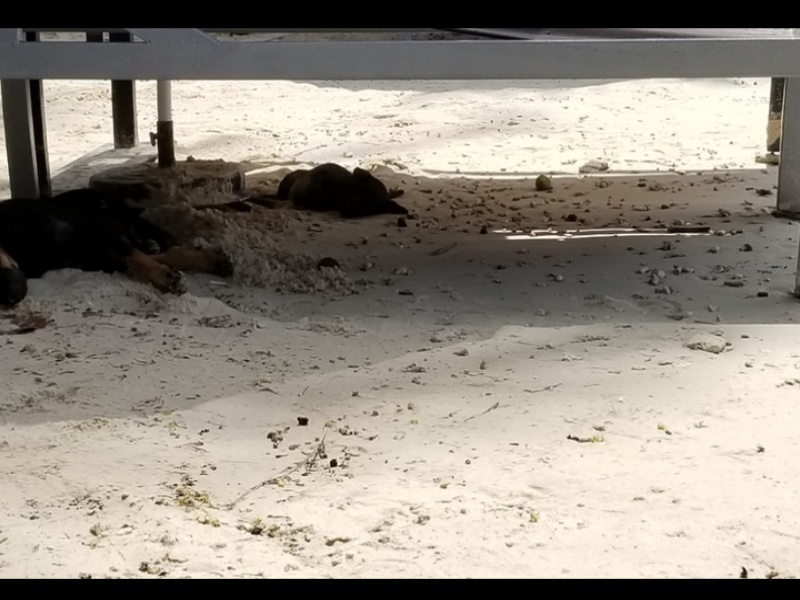dog: (1, 178, 240, 322)
